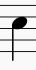HC: (9, 1, 29, 63)
